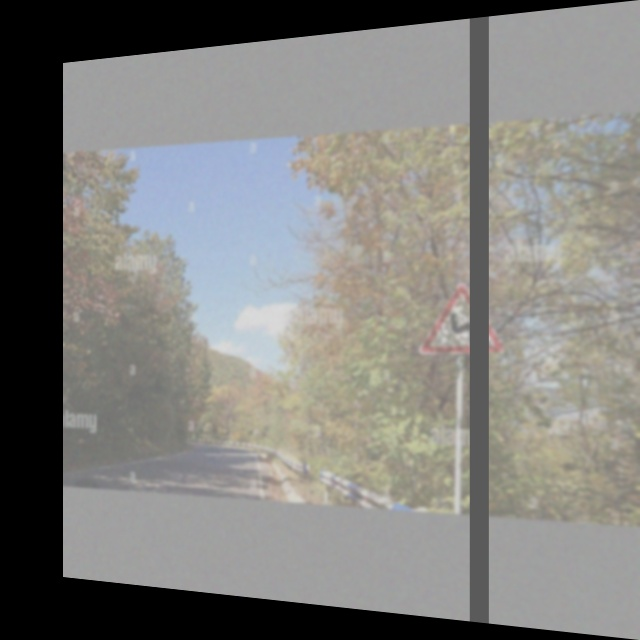Left_Reverse_Bend: (418, 279, 504, 360)
